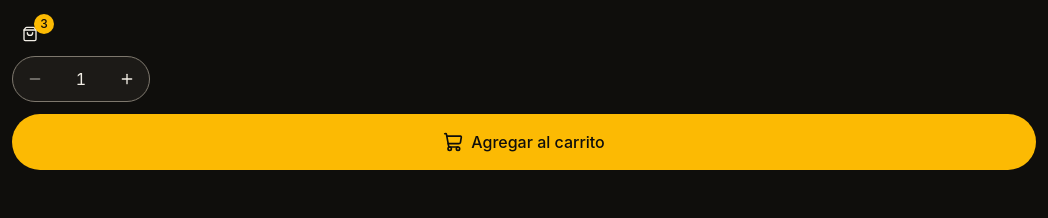
Scenario: CartProvider with the header button and the drawer › keeps the drawer closed when the add fails
Click the button "Agregar al carrito". click: (524,142)
box: [12,114,1036,170]
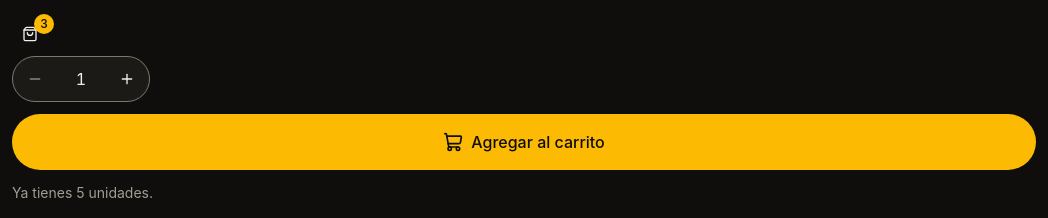
Result: the text "Ya tienes 5 unidades." is shown at [12,184,153,201]
